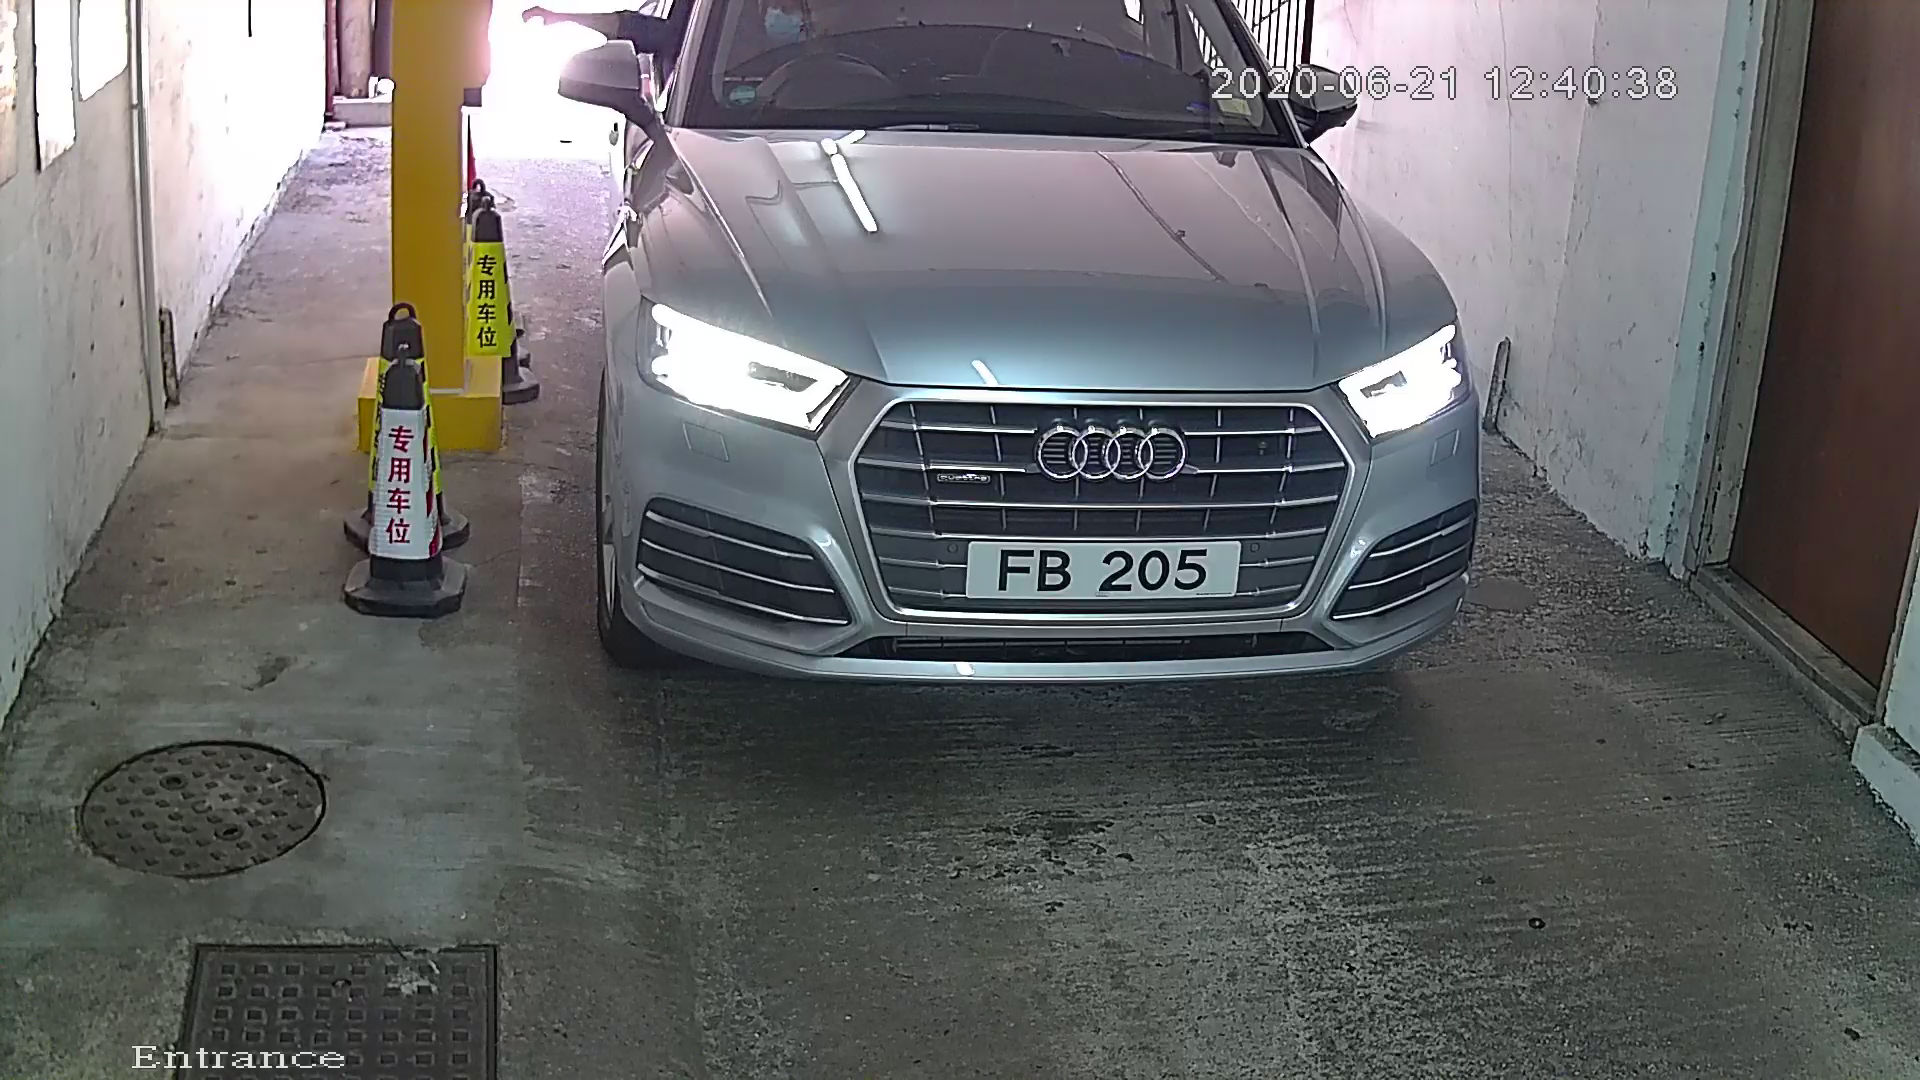privatecar: (551, 1, 1528, 775)
